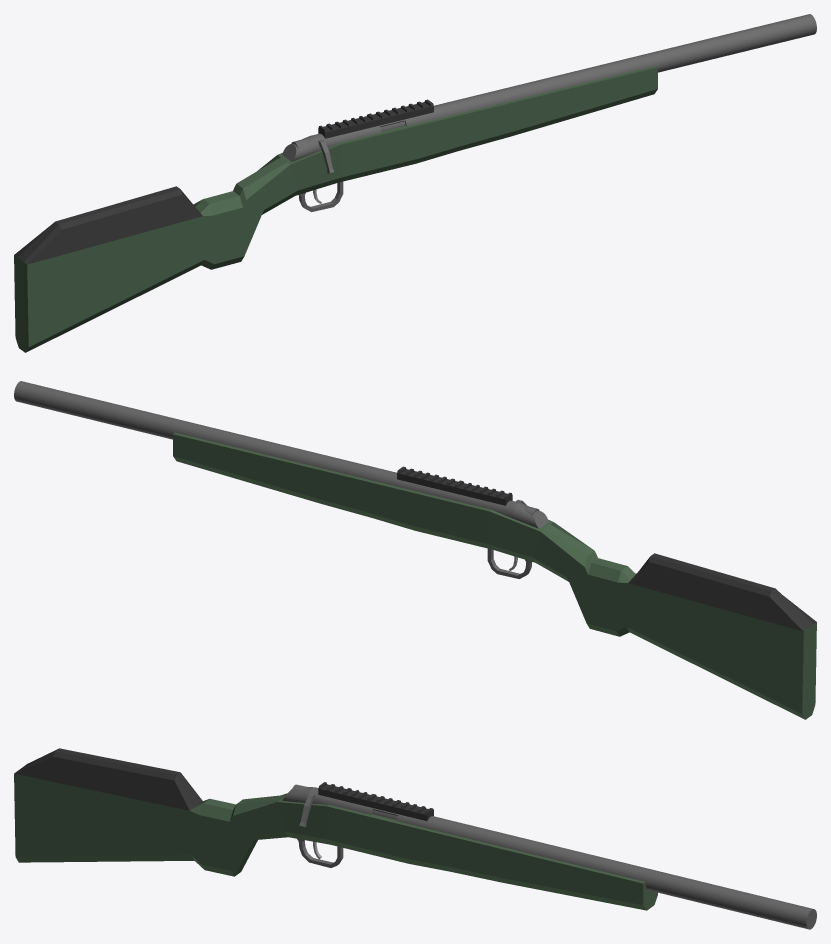
Rendered from sniper.fbx.
The picture shows the model from 3 angles, top to bottom: view 1: azimuth 30°, elevation 25°; view 2: azimuth 150°, elevation 25°; view 3: azimuth 330°, elevation 25°; orthographic projection.
Visible parts, largest first — view 1: Body; view 2: Body; view 3: Body, Bolt.
Part boxes in pixels (bbox=[...]): Body: bbox=[14, 14, 816, 352]; Body: bbox=[14, 381, 816, 719]; Body: bbox=[14, 748, 816, 929]; Bolt: bbox=[291, 784, 397, 826].
Bounding box in the file's own units: 1496 × 270 × 74.72.
3 materials, 3 textured.
